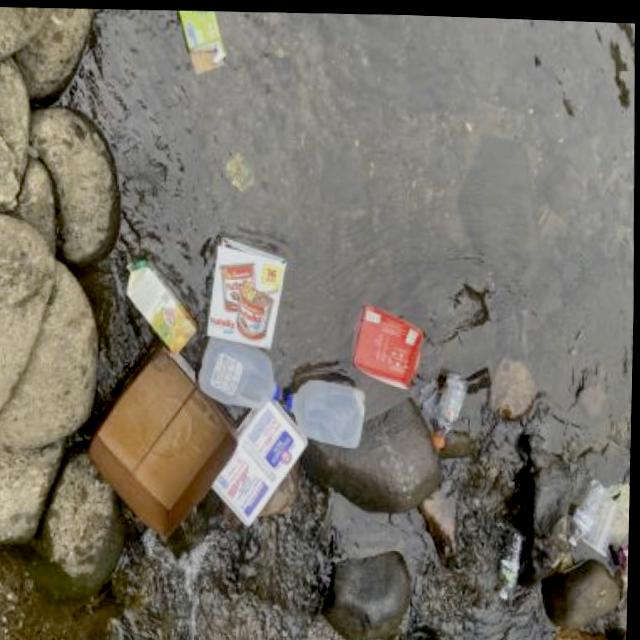Cardboard: (78, 323, 246, 548), (196, 222, 294, 353), (116, 246, 202, 359), (346, 295, 428, 390), (159, 6, 243, 86), (606, 588, 630, 640)
Plastic: (199, 383, 313, 530), (188, 318, 288, 415), (562, 464, 632, 576), (283, 367, 371, 451), (427, 362, 472, 450), (491, 515, 528, 599)
